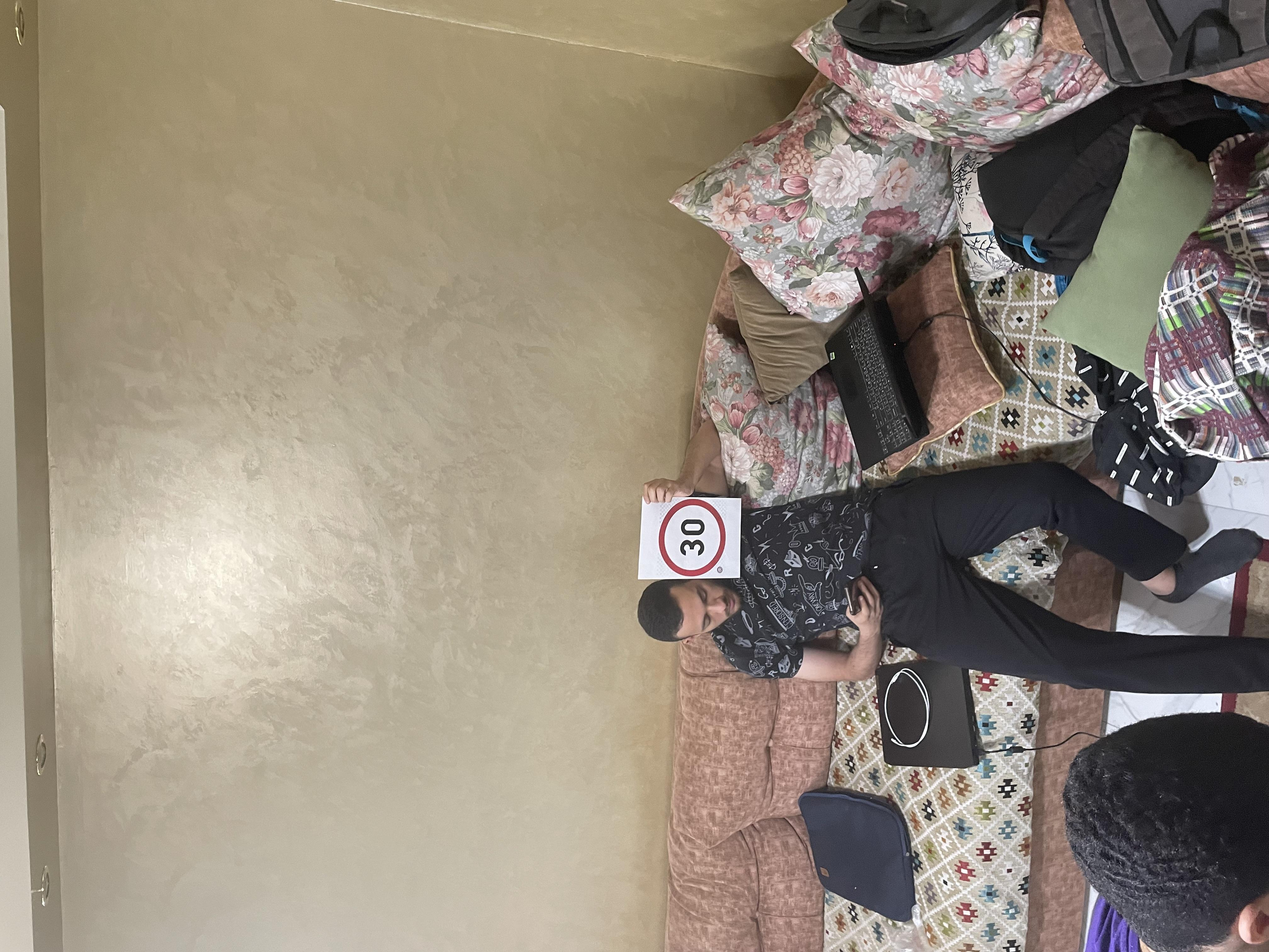30-speed: (500, 492, 606, 553)
